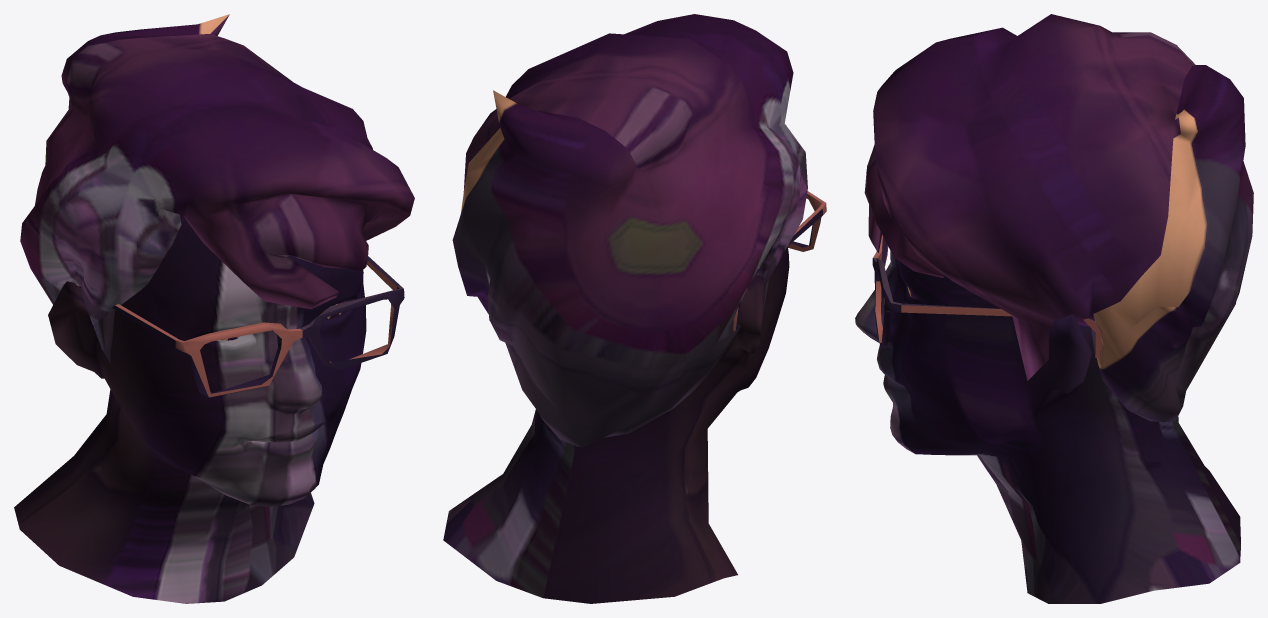
3 renders of one model, left to right at view 1: azimuth 30°, elevation 25°; view 2: azimuth 150°, elevation 25°; view 3: azimuth 270°, elevation 25°, orthographic.
Parts seen in each view (by area): view 1: Wolf3D_Avatar; view 2: Wolf3D_Avatar; view 3: Wolf3D_Avatar.
Boxes of the visible parts, box(x1,y1,x2,y2) form: Wolf3D_Avatar: box(14, 14, 414, 603); Wolf3D_Avatar: box(443, 14, 826, 603); Wolf3D_Avatar: box(855, 14, 1253, 603).
Bounding box in the file's own units: 20.04 × 33.67 × 22.75.
